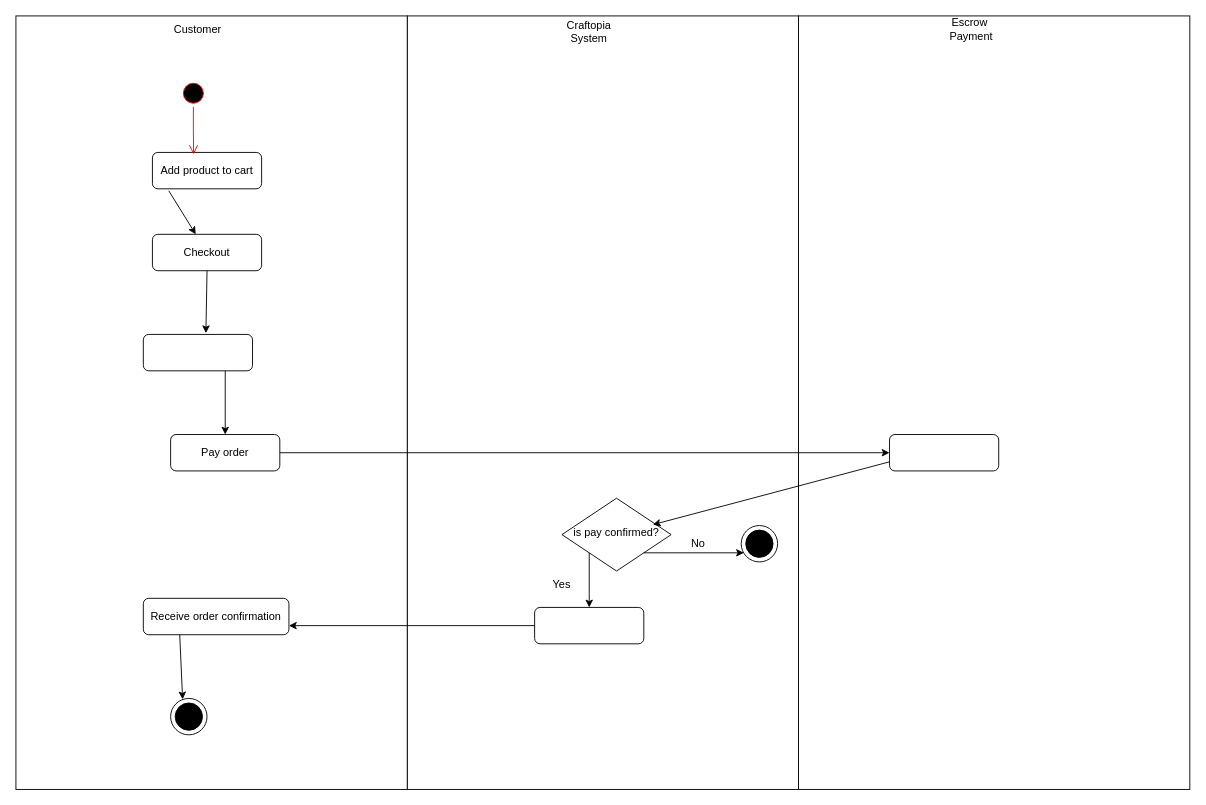
Image size: 1206x805. Some labels were removed from this diagram. The shapes that lost their labels are listed below. From the top down, each one's box as (x1, y1, x2, y2) in pixels, then its label:
(142, 334, 253, 371): Choose payment method
(889, 434, 999, 471): Check payment
(534, 607, 644, 644): Notify order confirmation
